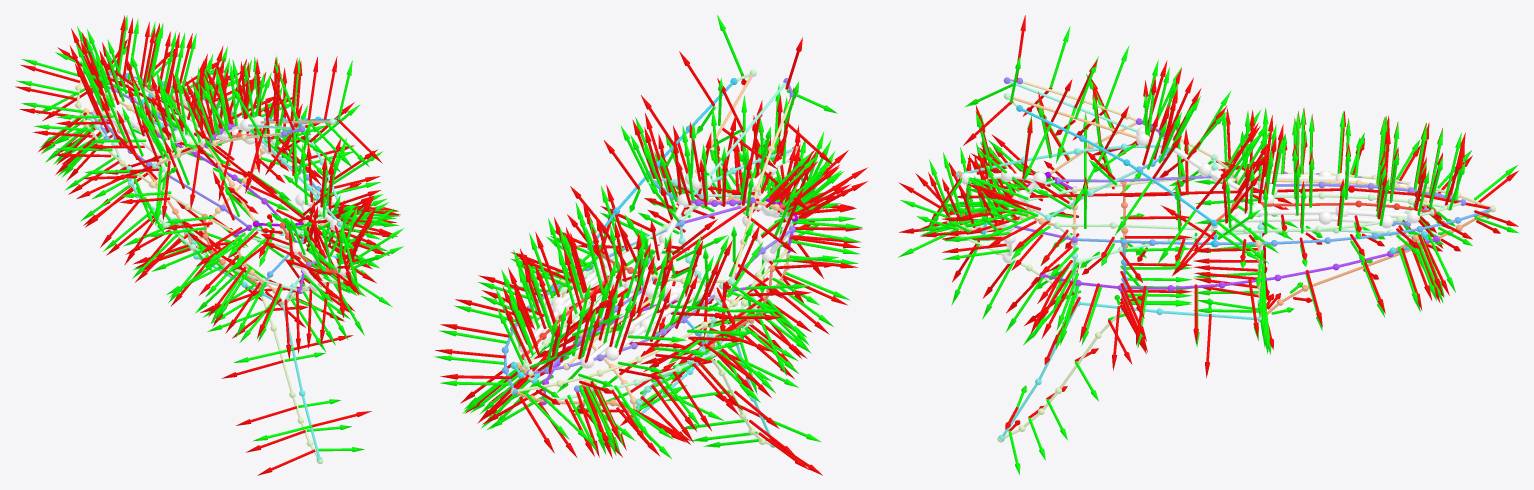
Rendered from ils_boat.gltf.
3 renders of one model, left to right at view 1: azimuth 30°, elevation 25°; view 2: azimuth 150°, elevation 25°; view 3: azimuth 270°, elevation 25°, orthographic. The views are drawn at different scales.
Size of the model in its own units: 0.4368 by 0.6688 by 0.9106.
